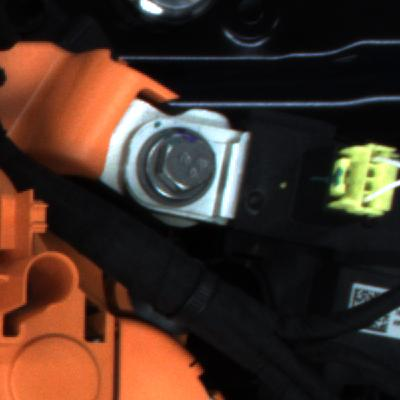nut_b: (138, 127, 224, 209)
